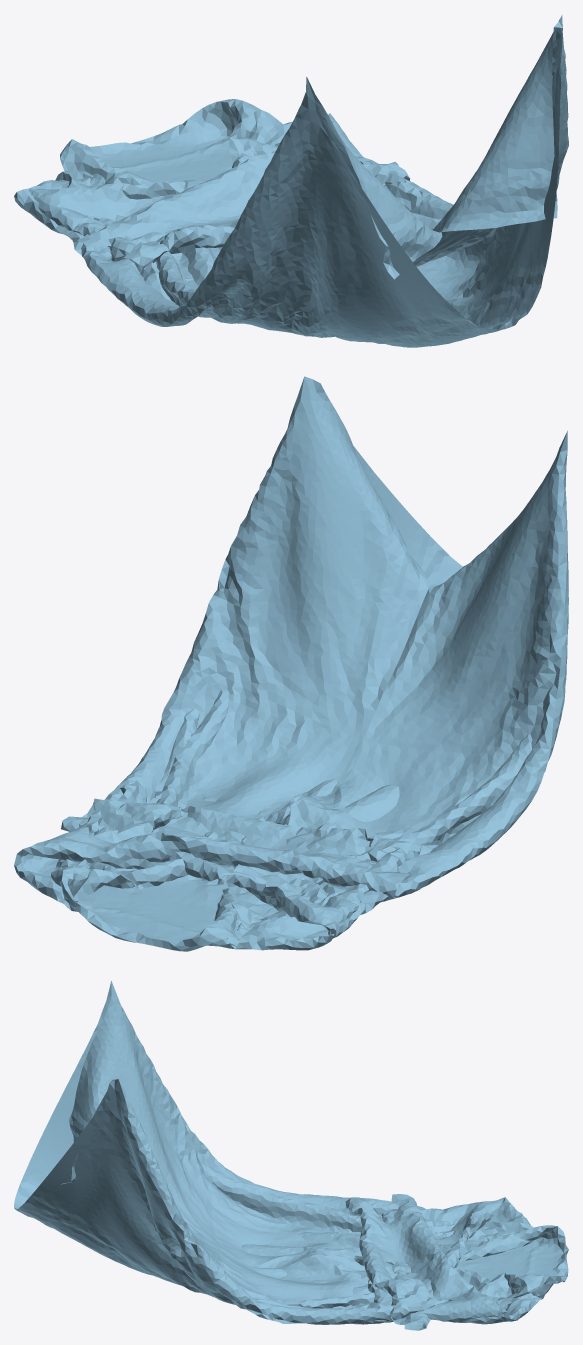
File: frame_06.glb
3 renders of one model, top to bottom at view 1: azimuth 30°, elevation 25°; view 2: azimuth 150°, elevation 25°; view 3: azimuth 270°, elevation 25°, orthographic. The views are drawn at different scales.
Visible parts, largest first — view 1: frame_06.obj; view 2: frame_06.obj; view 3: frame_06.obj.
Boxes of the visible parts, x1,y1,x2,y2 form: frame_06.obj: (14,15,568,347); frame_06.obj: (14,376,568,951); frame_06.obj: (14,981,568,1330).
Bounding box in the file's own units: 0.922 × 0.7958 × 1.64.
